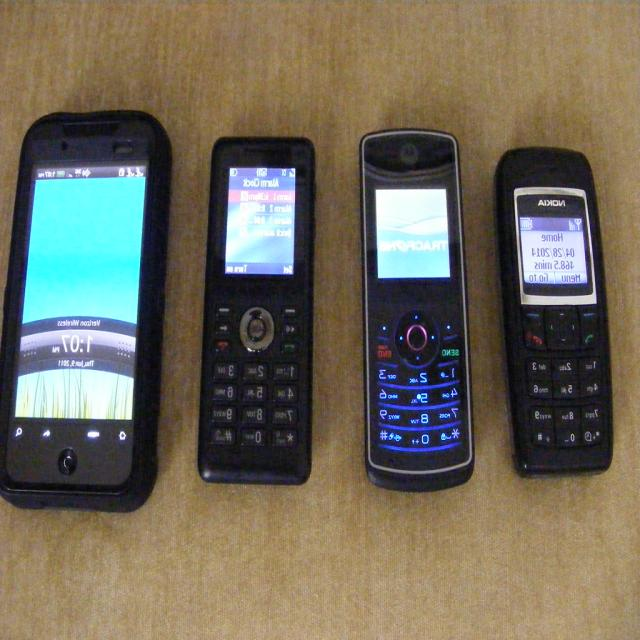mobile: (0, 111, 172, 515), (360, 129, 474, 493), (200, 140, 315, 486), (513, 152, 608, 477)
